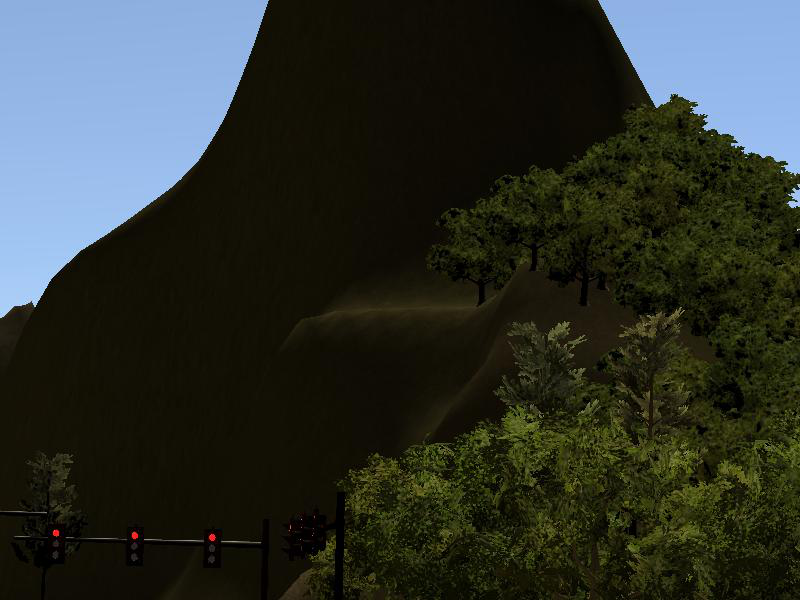red: (204, 528, 220, 568), (50, 525, 66, 564), (129, 528, 145, 566)
